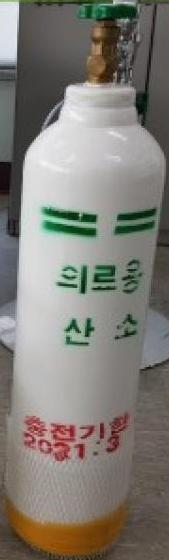cylinder: (1, 1, 169, 560)
